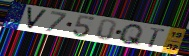0: (95, 19, 119, 42)
5: (72, 14, 97, 38)
7: (44, 10, 70, 33)
Q: (117, 23, 145, 48)
T: (147, 27, 167, 49)
V: (26, 6, 50, 31)
